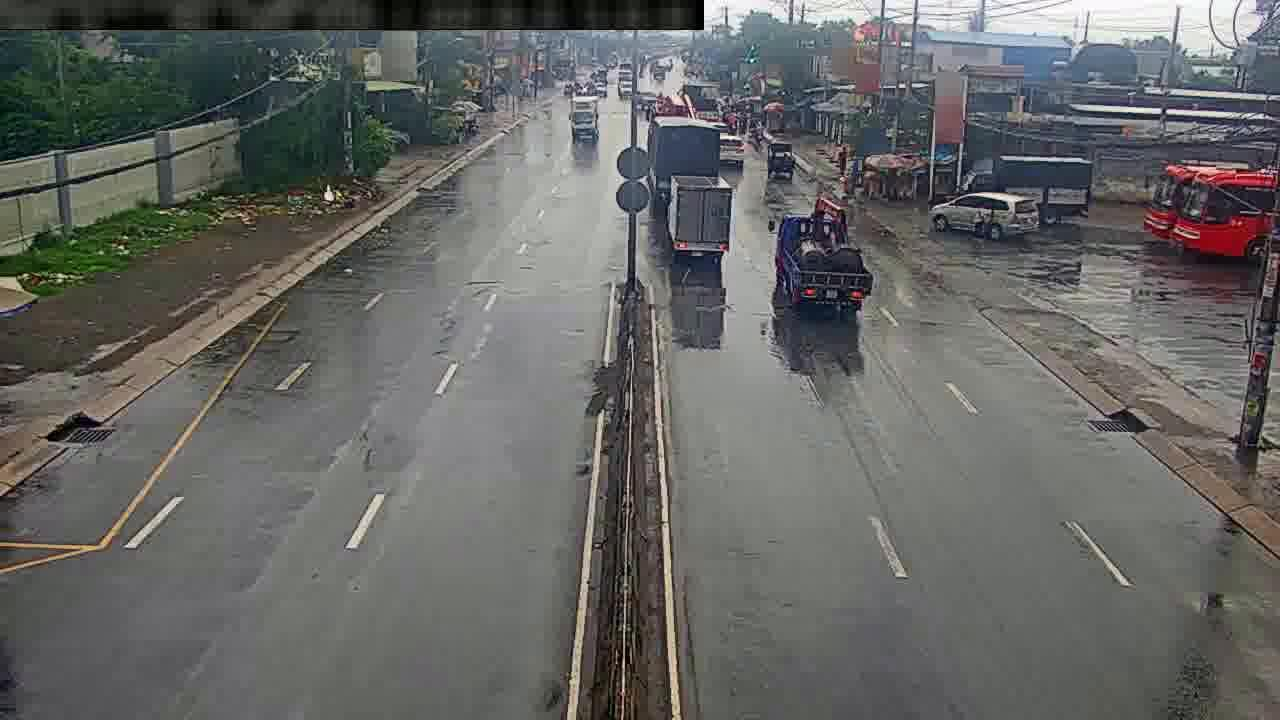8: (665, 176, 735, 246), (650, 120, 719, 187), (568, 93, 599, 138)
container: (776, 202, 876, 304)
